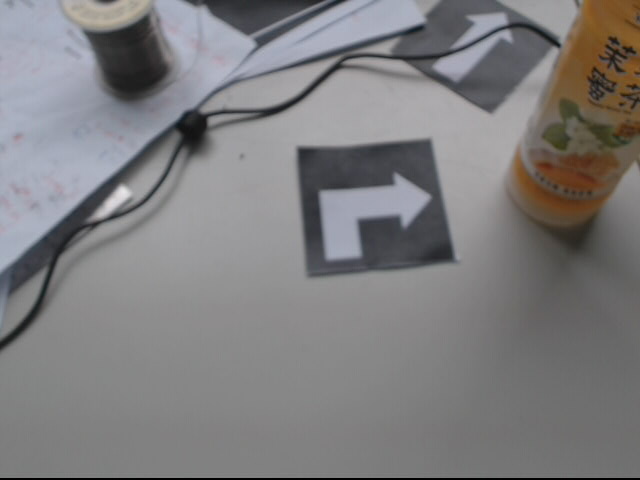right: (296, 135, 459, 273)
